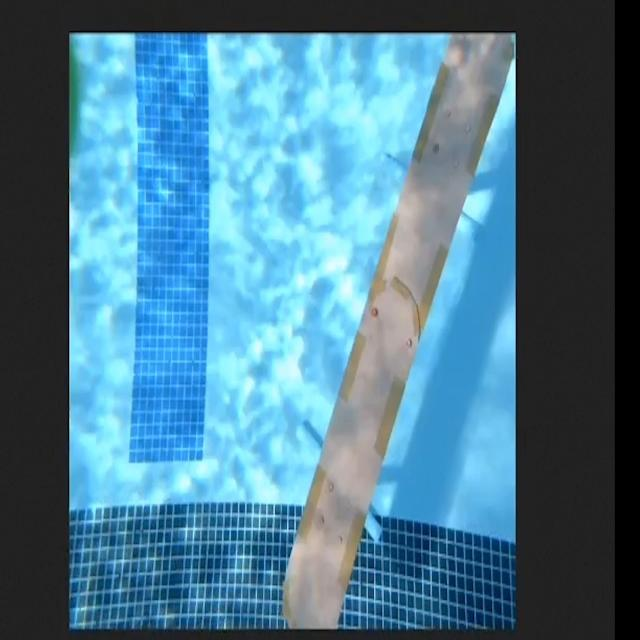Path: (272, 32, 515, 633)
